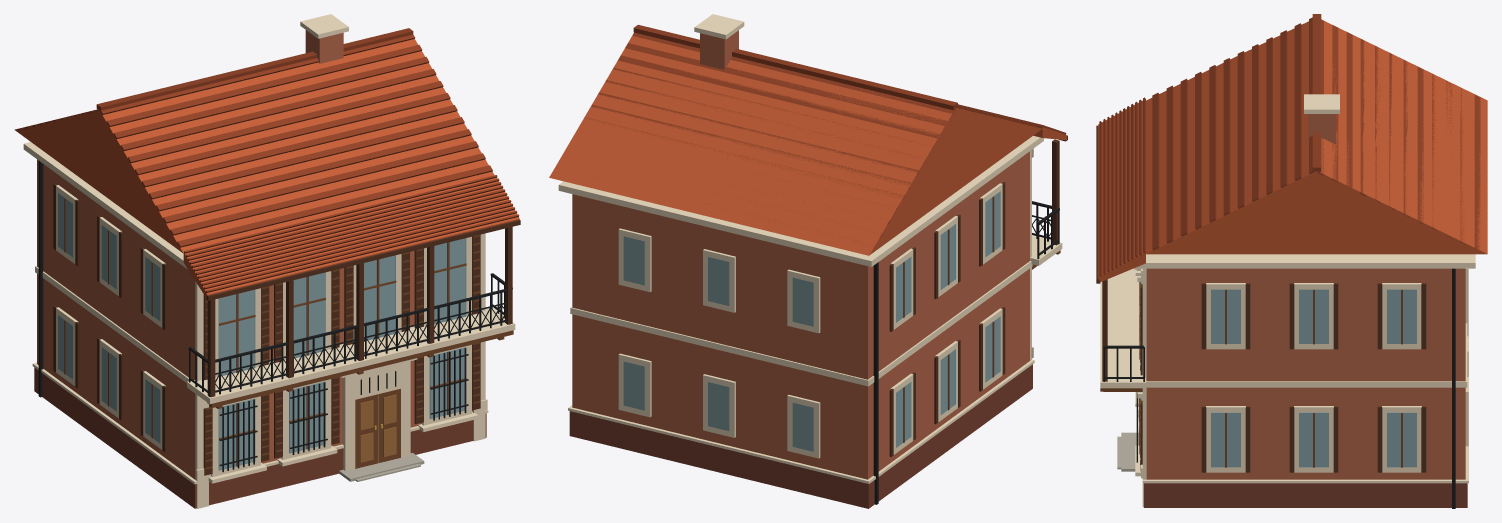
File: casa-marron-premium.glb
The picture shows the model from 3 angles, left to right: view 1: azimuth 30°, elevation 25°; view 2: azimuth 150°, elevation 25°; view 3: azimuth 270°, elevation 25°; orthographic projection. The views are drawn at different scales.
Parts seen in each view (by area): view 1: CasaMarron_Crema, CasaMarron_TejaOscura, CasaMarron_Teja, CasaMarron_MuroTerracota, CasaMarron_Vidrio, CasaMarron_Postigo, CasaMarron_Hierro, CasaMarron_MuroZocalo, CasaMarron_Madera, CasaMarron_MaderaClara, CasaMarron_Piedra; view 2: CasaMarron_MuroTerracota, CasaMarron_Teja, CasaMarron_Crema, CasaMarron_MuroZocalo, CasaMarron_TejaOscura, CasaMarron_Vidrio, CasaMarron_Postigo, CasaMarron_Hierro, CasaMarron_Madera; view 3: CasaMarron_Teja, CasaMarron_MuroTerracota, CasaMarron_Crema, CasaMarron_TejaOscura, CasaMarron_Vidrio, CasaMarron_MuroZocalo, CasaMarron_Postigo, CasaMarron_Hierro, CasaMarron_Madera, CasaMarron_Piedra.
Part boxes in pixels (box(x1,y1,x2,y2)): CasaMarron_Crema: box(23, 14, 515, 508); CasaMarron_TejaOscura: box(18, 28, 519, 292); CasaMarron_Teja: box(14, 39, 519, 297); CasaMarron_MuroTerracota: box(37, 30, 472, 479); CasaMarron_Vidrio: box(58, 193, 466, 470); CasaMarron_Postigo: box(53, 183, 520, 475); CasaMarron_Hierro: box(38, 161, 512, 472); CasaMarron_MuroZocalo: box(34, 367, 486, 508); CasaMarron_Madera: box(64, 198, 513, 469); CasaMarron_MaderaClara: box(360, 394, 396, 462); CasaMarron_Piedra: box(339, 453, 424, 481); CasaMarron_MuroTerracota: box(572, 30, 1029, 479); CasaMarron_Teja: box(549, 36, 1066, 255); CasaMarron_Crema: box(558, 14, 1062, 483); CasaMarron_MuroZocalo: box(569, 364, 1032, 508); CasaMarron_TejaOscura: box(565, 24, 1066, 246); CasaMarron_Vidrio: box(623, 191, 1000, 451); CasaMarron_Postigo: box(889, 135, 1067, 456); CasaMarron_Hierro: box(873, 201, 1059, 504); CasaMarron_Madera: box(903, 196, 1060, 442); CasaMarron_Teja: box(1098, 21, 1487, 282); CasaMarron_MuroTerracota: box(1146, 114, 1465, 479); CasaMarron_Crema: box(1100, 94, 1475, 507); CasaMarron_TejaOscura: box(1099, 14, 1480, 276); CasaMarron_Vidrio: box(1140, 282, 1416, 467); CasaMarron_MuroZocalo: box(1144, 483, 1467, 507); CasaMarron_Postigo: box(1096, 125, 1426, 472); CasaMarron_Hierro: box(1103, 268, 1455, 508); CasaMarron_Madera: box(1100, 282, 1402, 467); CasaMarron_Piedra: box(1117, 432, 1138, 471).
Size of the model in its own units: 9.1 by 10.21 by 9.8.
